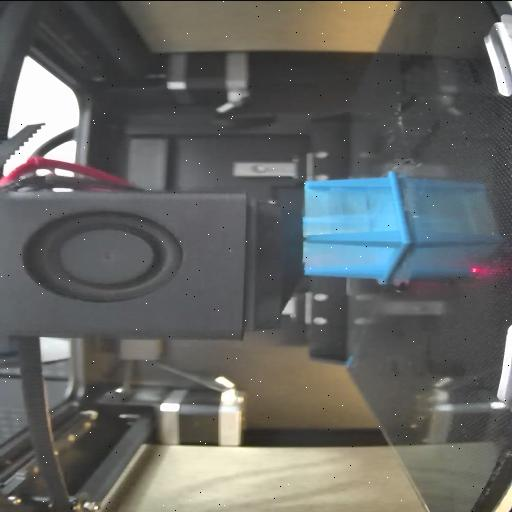stringing: (302, 182, 400, 236), (306, 244, 404, 276)
